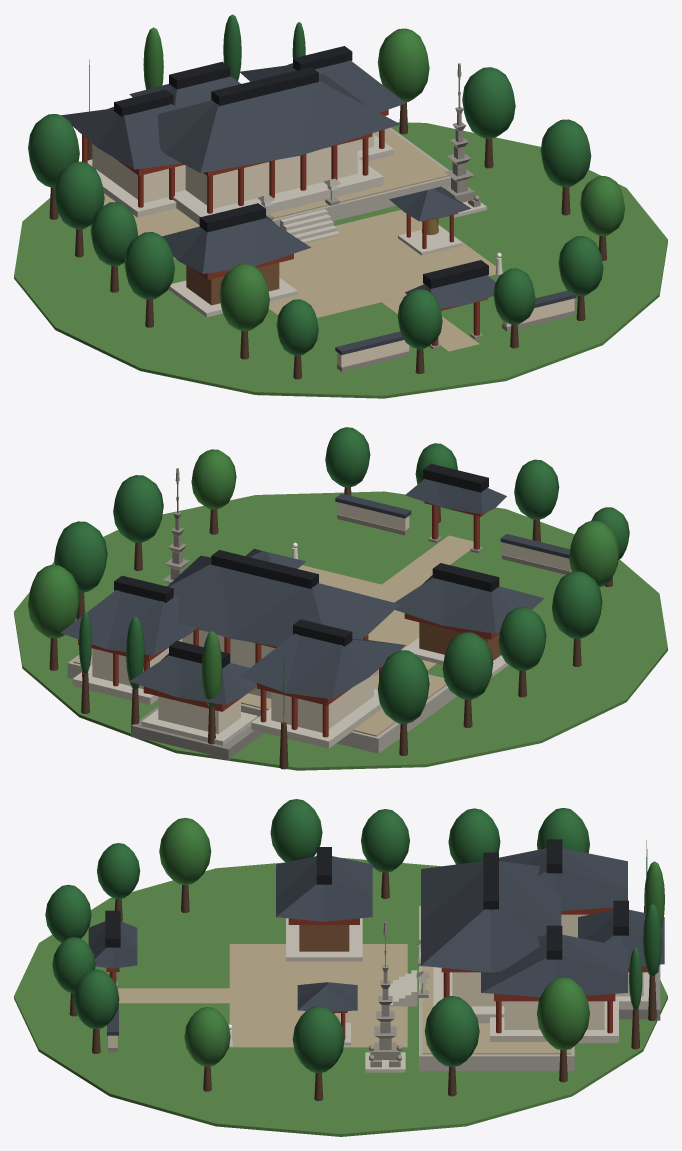
Rendered from gilsangsa.glb.
3 views of the same model, one above another, from view 1: azimuth 30°, elevation 25°; view 2: azimuth 150°, elevation 25°; view 3: azimuth 270°, elevation 25° (orthographic).
Size of the model in its own units: 58.8 by 14.35 by 58.8.
